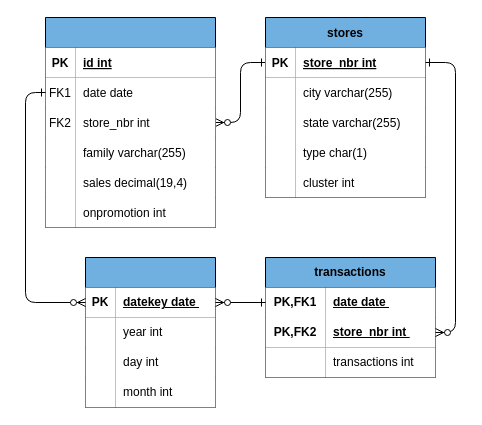
Image size: 482x425. Some labels were removed from this diagram. Each missing label, with the box of its shape:
dates: (84, 256, 216, 408)
train: (44, 16, 216, 228)
